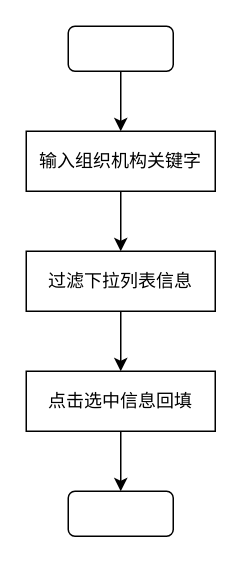
This 242x563 diagram has some shape labels left out. Here are the shapes that lost their labels. From the top down, the box of each, then its label:
(67, 25, 173, 71): 开始
(67, 490, 173, 536): 结束
